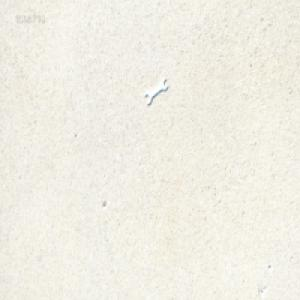Wrench: (145, 75, 168, 105)
